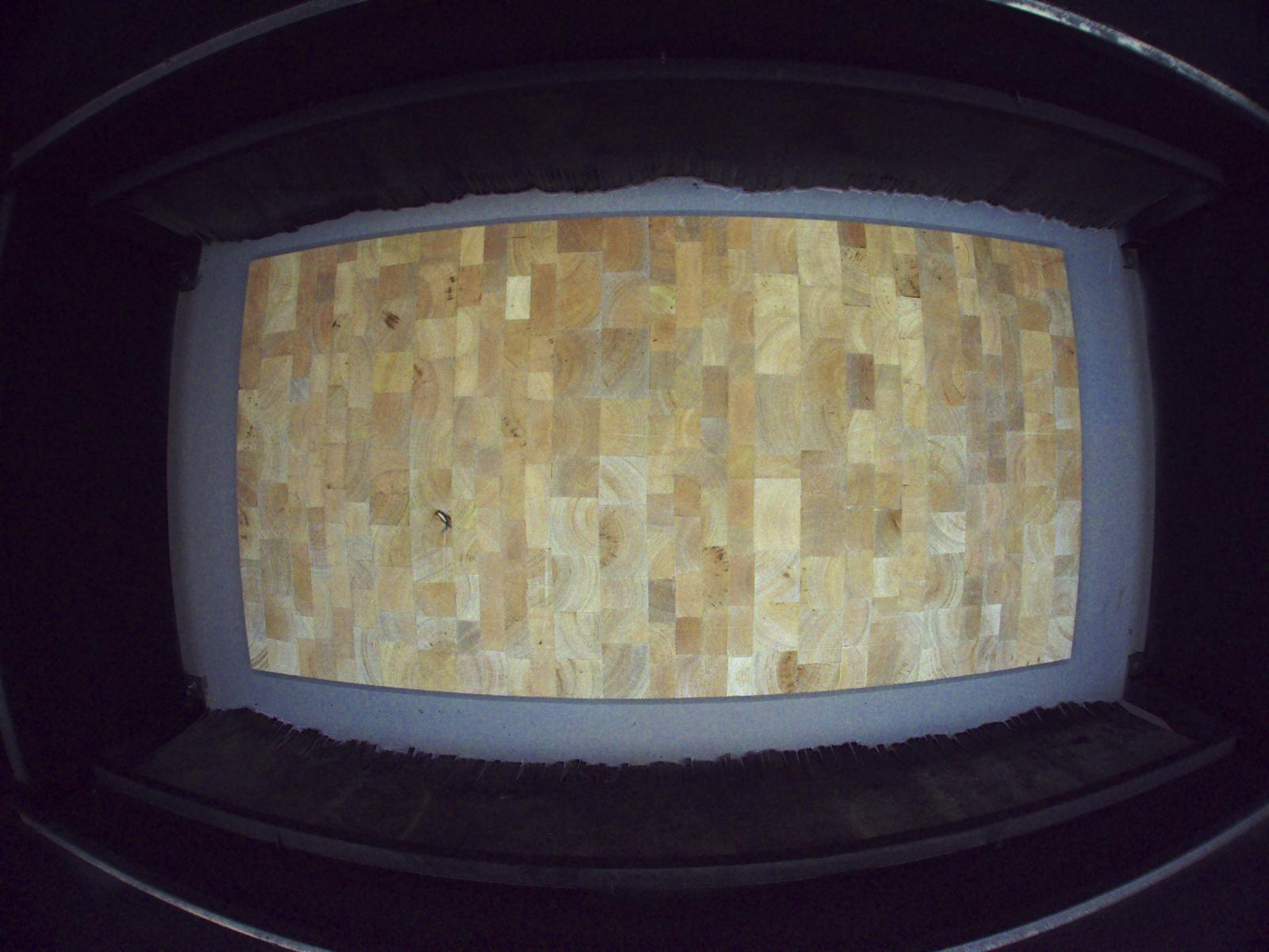nudillo: (435, 508, 453, 529)
